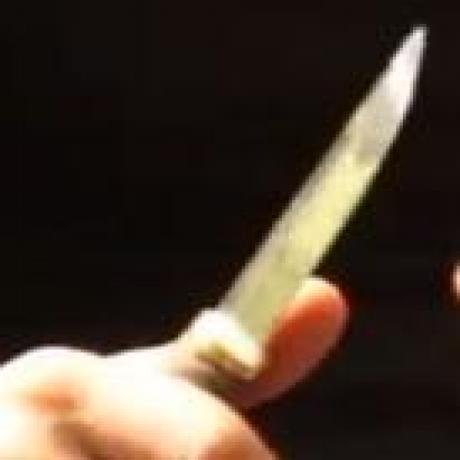weapon: (174, 20, 431, 391)
